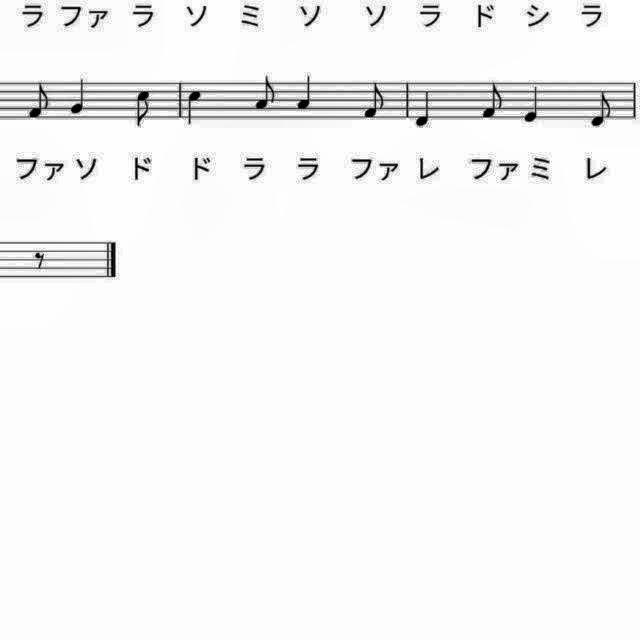Eighth-note: (357, 76, 389, 124), (23, 77, 55, 123), (250, 72, 282, 116), (477, 79, 507, 125), (584, 86, 614, 130), (130, 87, 156, 133)
Eighth-rest: (29, 246, 51, 274)
Quarter-note: (410, 85, 440, 132), (520, 80, 546, 128), (292, 72, 318, 116), (65, 75, 91, 119), (182, 86, 206, 130)
